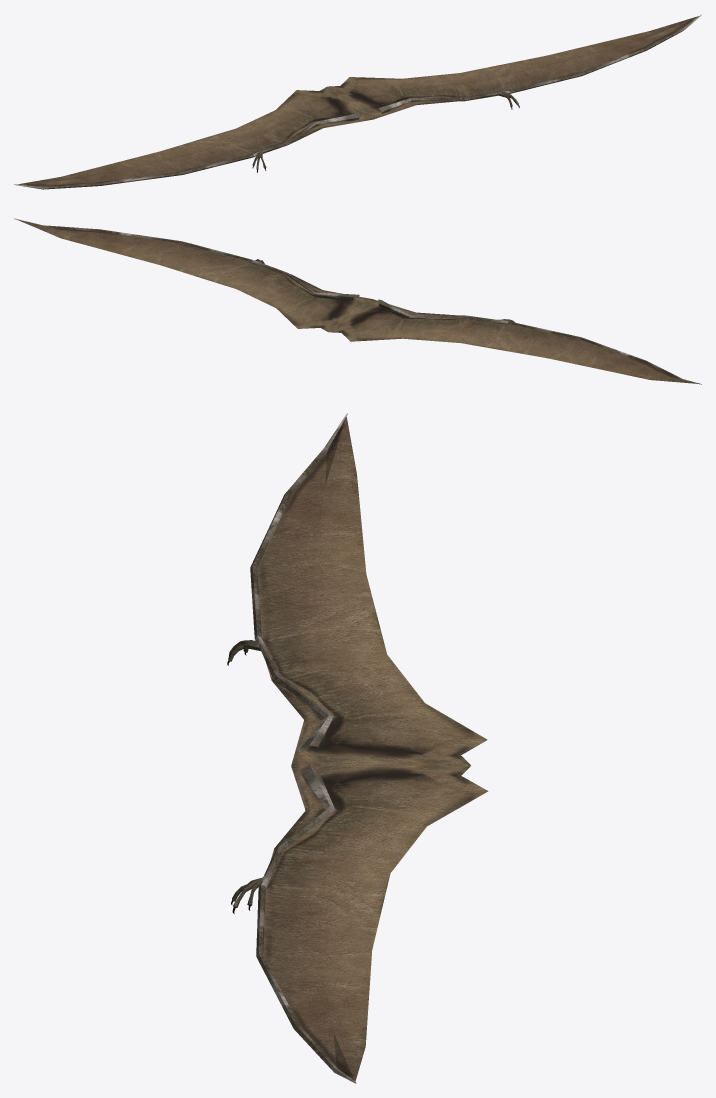
Rendered from pteroAlas.obj.
3 views of the same model, one above another, from view 1: azimuth 30°, elevation 25°; view 2: azimuth 150°, elevation 25°; view 3: azimuth 270°, elevation 25° (orthographic). The views are drawn at different scales.
Visible parts, largest first — view 1: ptero:corpo1corpo; view 2: ptero:corpo1corpo; view 3: ptero:corpo1corpo.
Boxes of the visible parts, box(x1,y1,x2,y2) form: ptero:corpo1corpo: box(14, 14, 701, 189); ptero:corpo1corpo: box(14, 218, 701, 384); ptero:corpo1corpo: box(227, 413, 488, 1083).
Size of the model in its own units: 9.28 by 0.252 by 1.53.
Materials: 1 (1 with a texture image).
